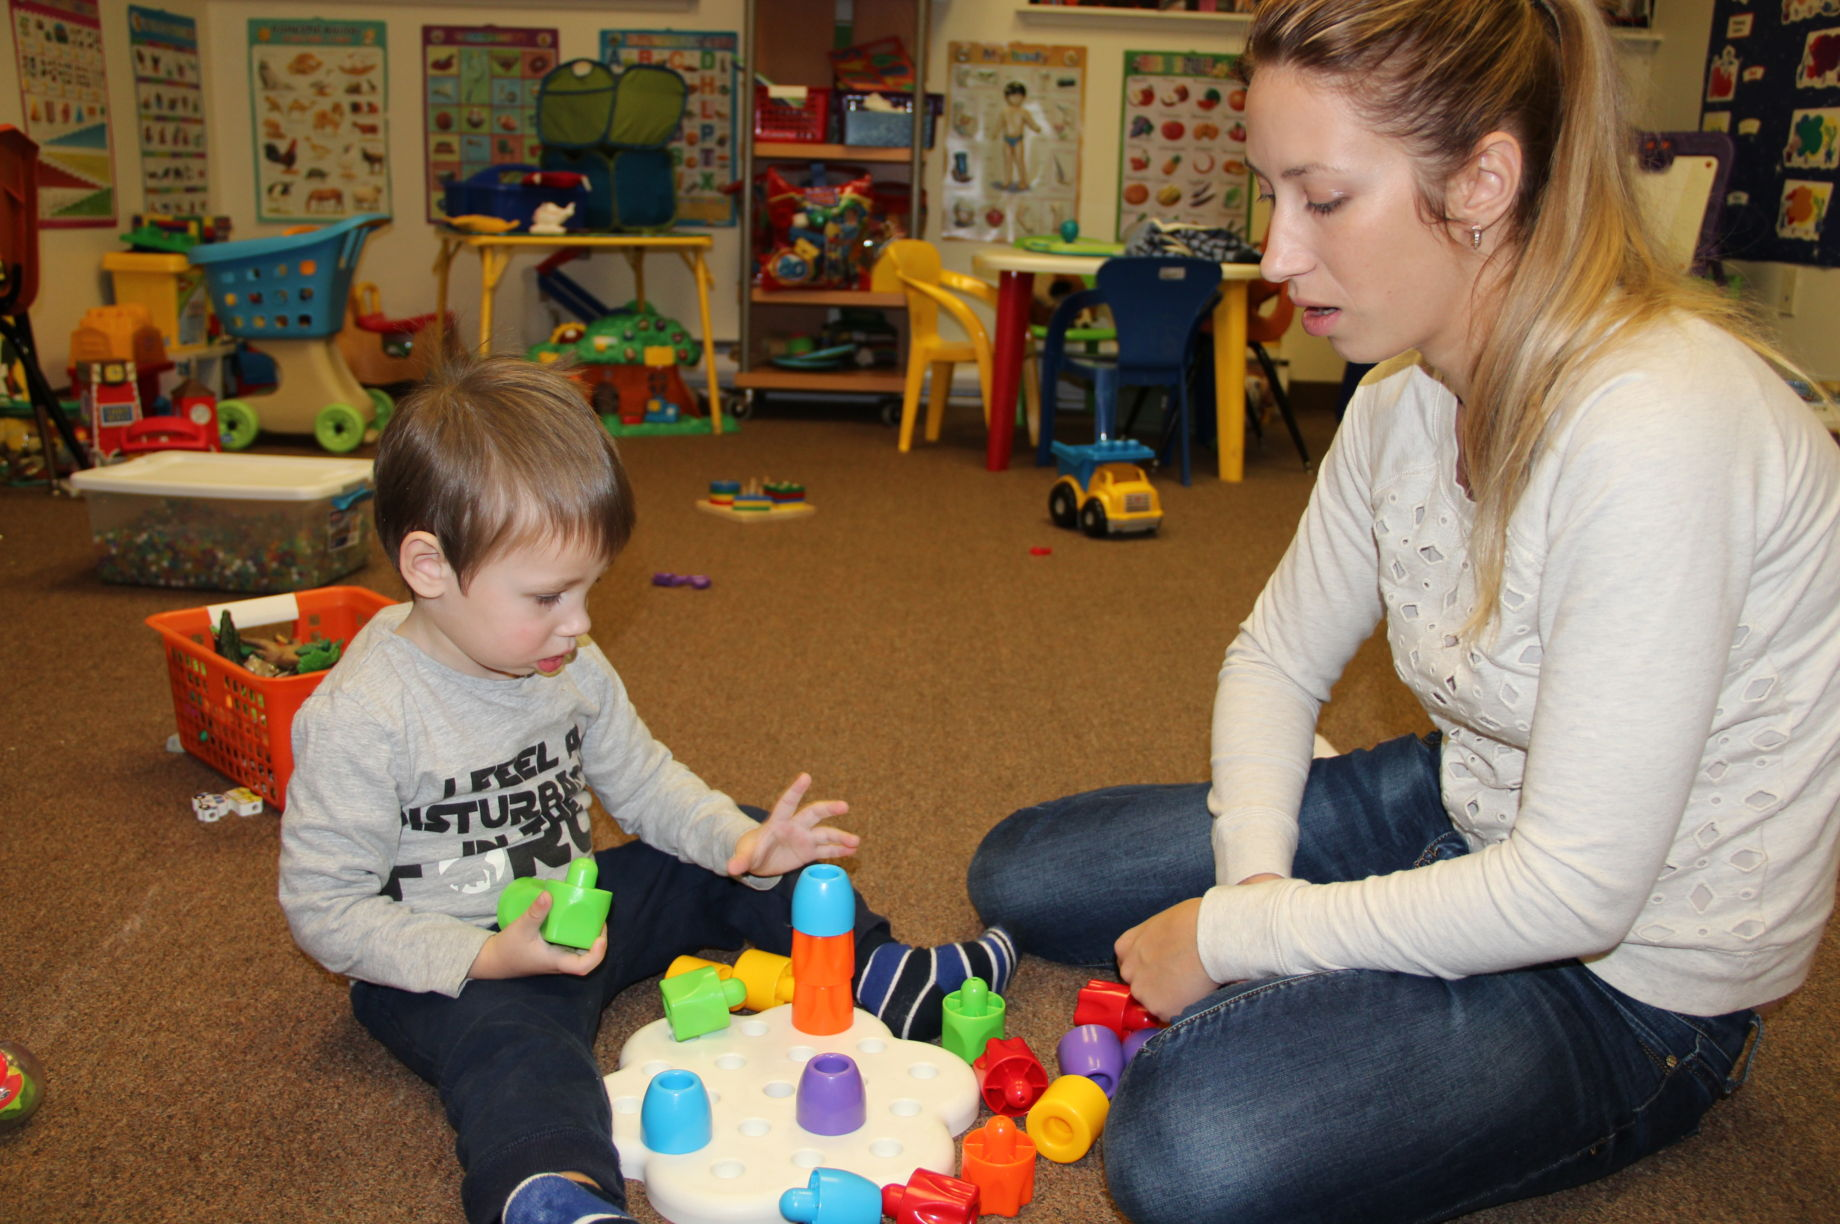human: (960, 4, 1840, 1224), (233, 349, 983, 1224)
